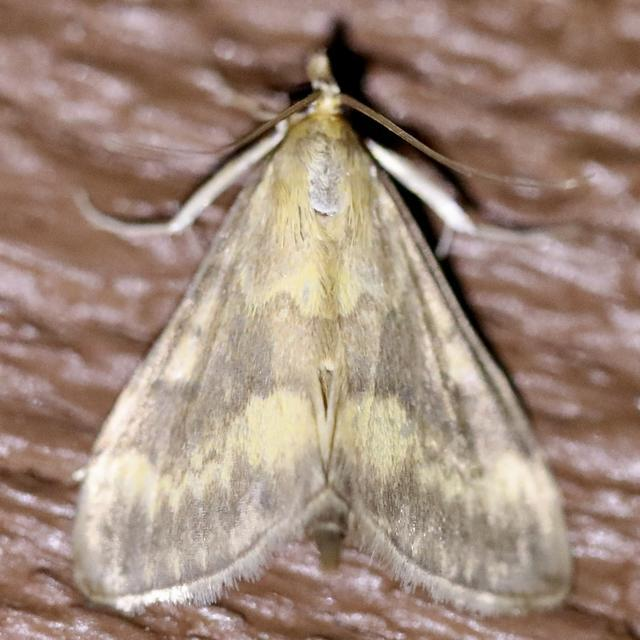cornborer-Adult-: (59, 46, 586, 627)
